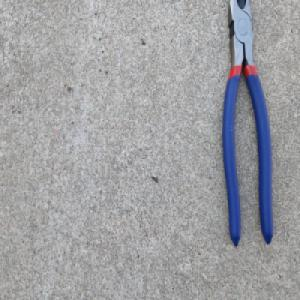Pliers: (220, 0, 275, 249)
